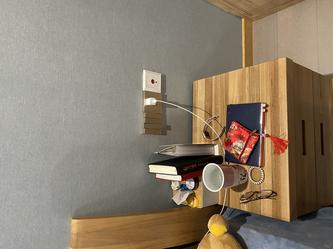switch: (146, 114, 164, 132)
